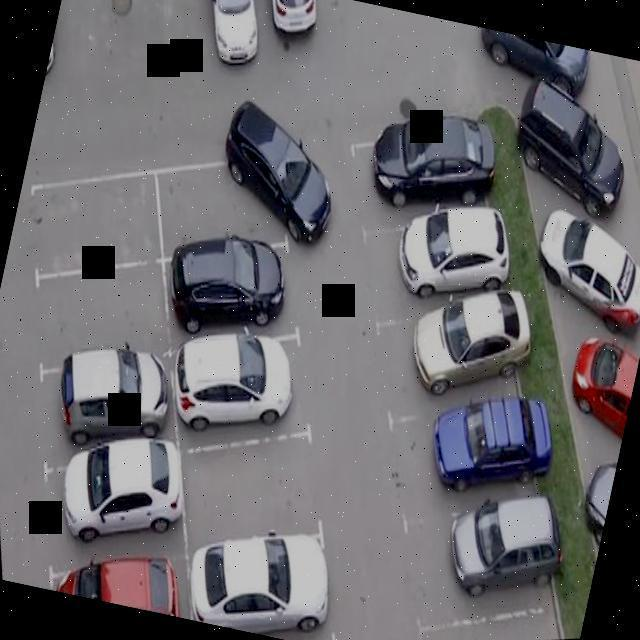space-empty: (160, 405, 351, 576), (21, 241, 186, 387), (11, 150, 178, 294), (416, 577, 574, 640)
space-occupied: (364, 365, 566, 558), (350, 270, 545, 454), (341, 180, 528, 354), (390, 474, 578, 640), (154, 306, 336, 477), (25, 424, 209, 582), (19, 325, 195, 471), (333, 93, 501, 243), (145, 215, 315, 363), (136, 134, 309, 276), (176, 521, 358, 640), (40, 522, 217, 622)
